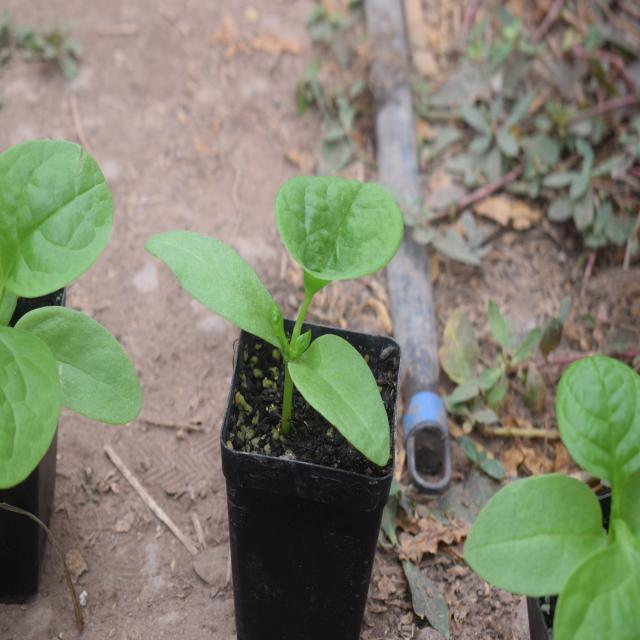Ceylon spinach: (161, 168, 438, 463)
